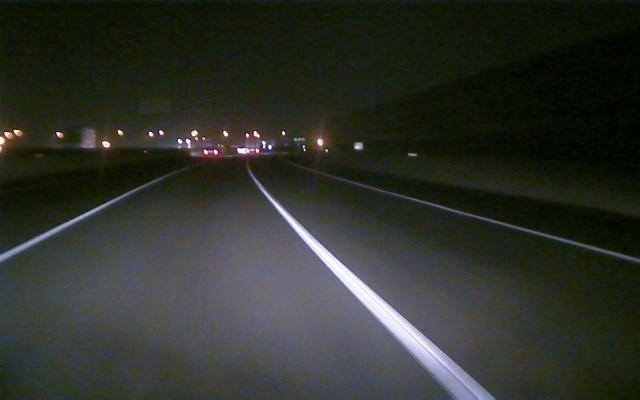lane: (256, 179, 493, 396), (365, 184, 640, 265), (0, 178, 162, 265)
